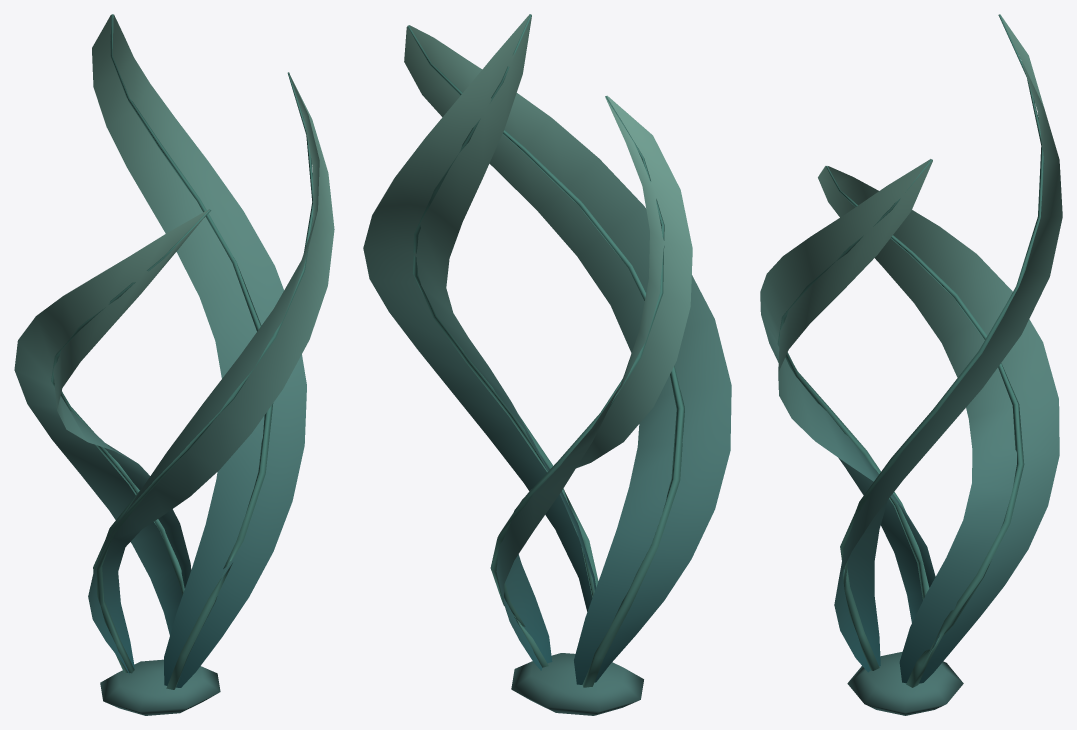
The model's file is seaweed-spiral.glb.
3 views of the same model, side by side, from view 1: azimuth 30°, elevation 25°; view 2: azimuth 150°, elevation 25°; view 3: azimuth 270°, elevation 25° (orthographic). The views are drawn at different scales.
Parts seen in each view (by area): view 1: seaweed-spiral; view 2: seaweed-spiral; view 3: seaweed-spiral.
Boxes of the visible parts, bbox=[...] form: seaweed-spiral: bbox=[14, 14, 334, 715]; seaweed-spiral: bbox=[363, 14, 731, 715]; seaweed-spiral: bbox=[760, 14, 1062, 715].
Bounding box in the file's own units: 1.14 × 2.85 × 1.14.
